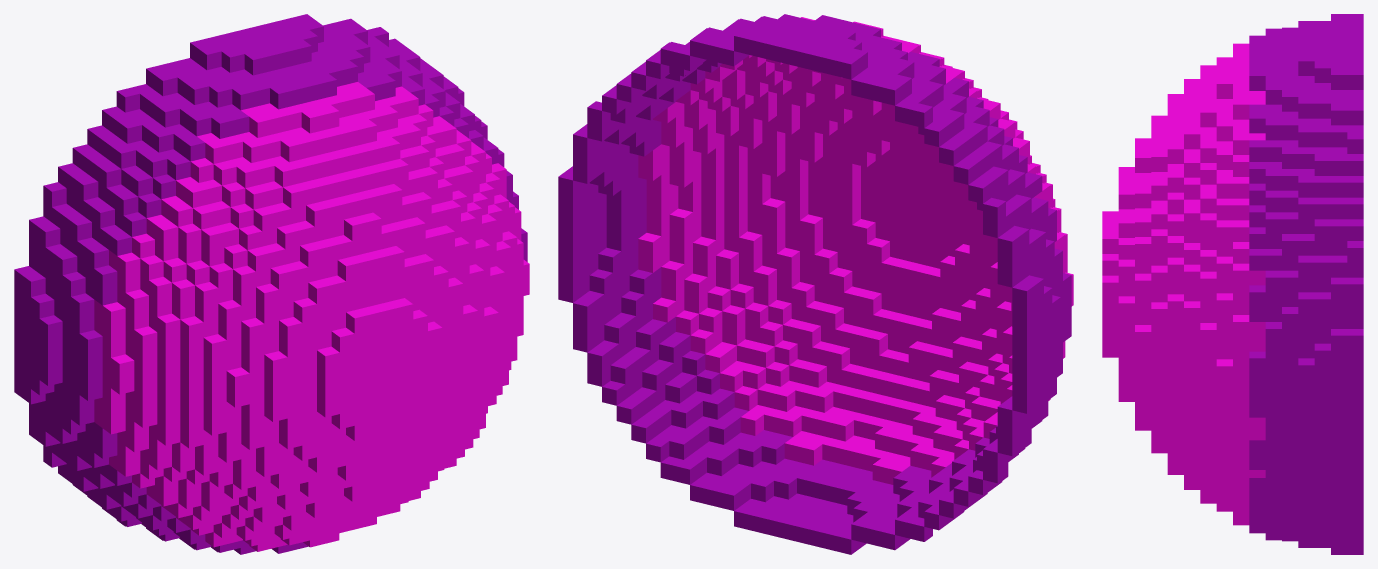
The model's file is MagentaBubbleShield.obj.
3 views of the same model, side by side, from view 1: azimuth 30°, elevation 25°; view 2: azimuth 150°, elevation 25°; view 3: azimuth 270°, elevation 25° (orthographic). The views are drawn at different scales.
Size of the model in its own units: 3.2 by 3.2 by 1.6.
